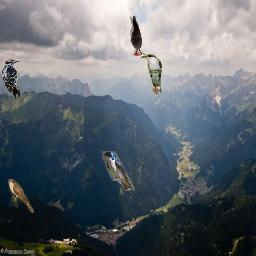Cuckoo: (8, 179, 34, 213), (141, 54, 162, 94)
Swallow: (102, 151, 135, 191)
Woodpecker: (1, 59, 20, 99), (130, 16, 147, 56)
